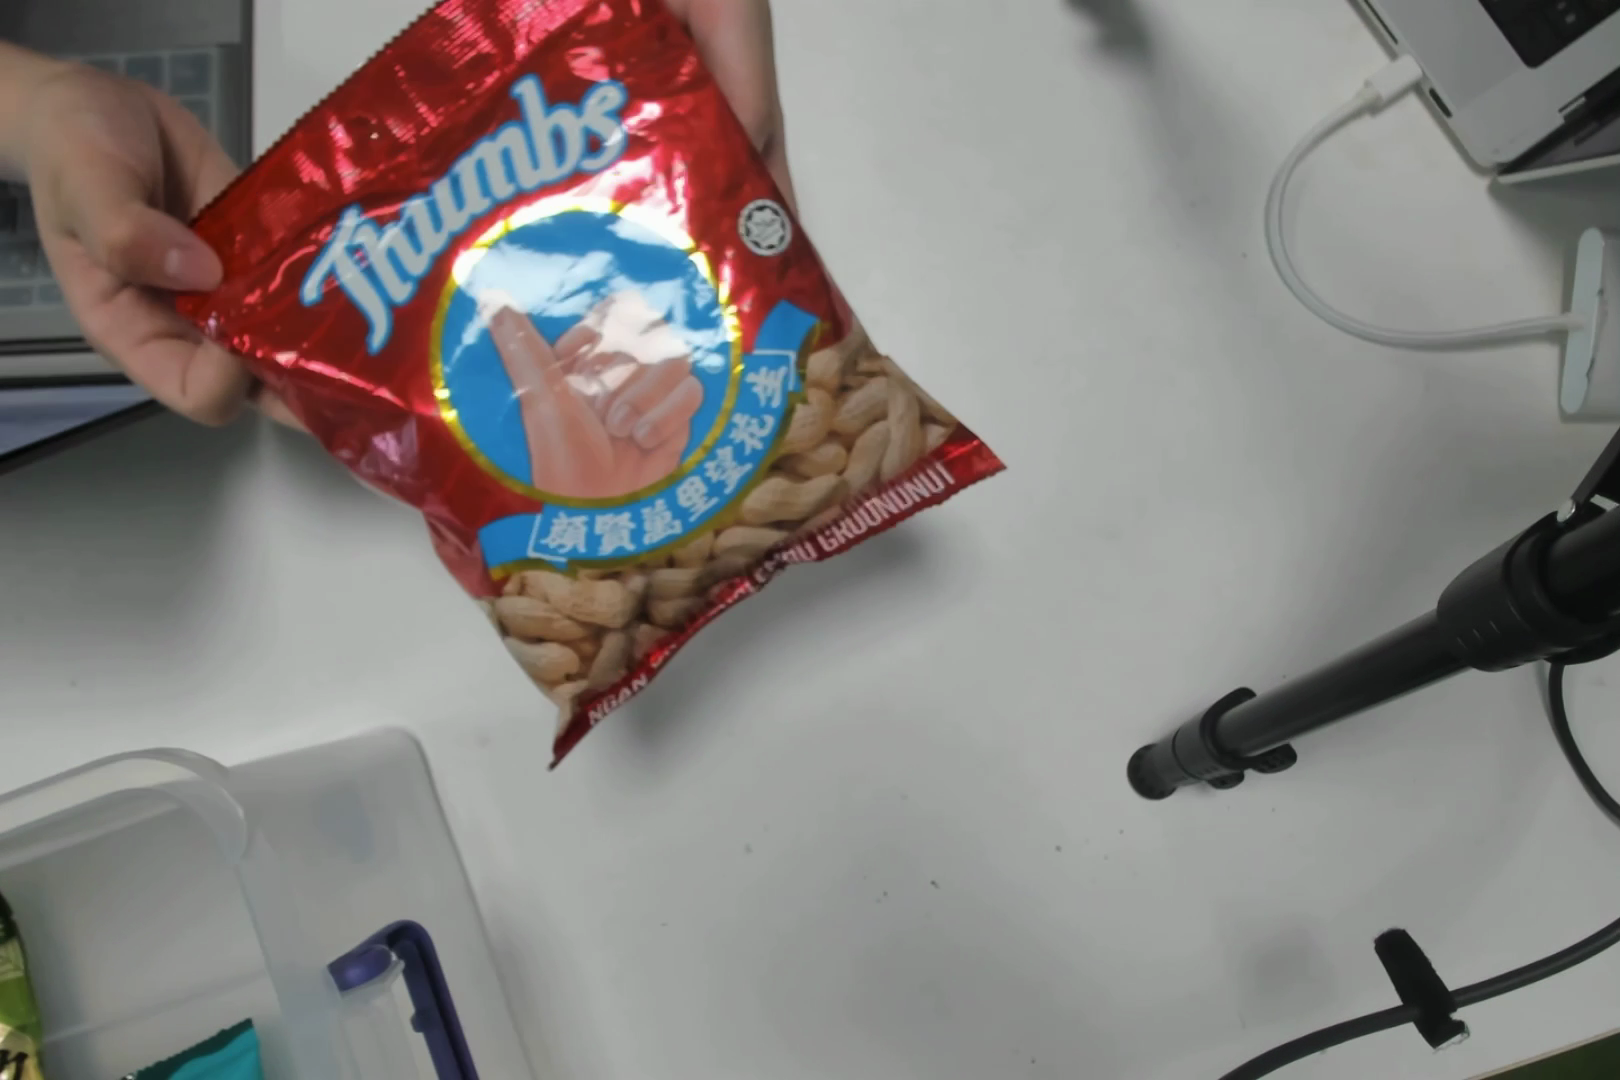Nuts_100-199g_Halal_NonHealthy: (350, 63, 884, 683)
